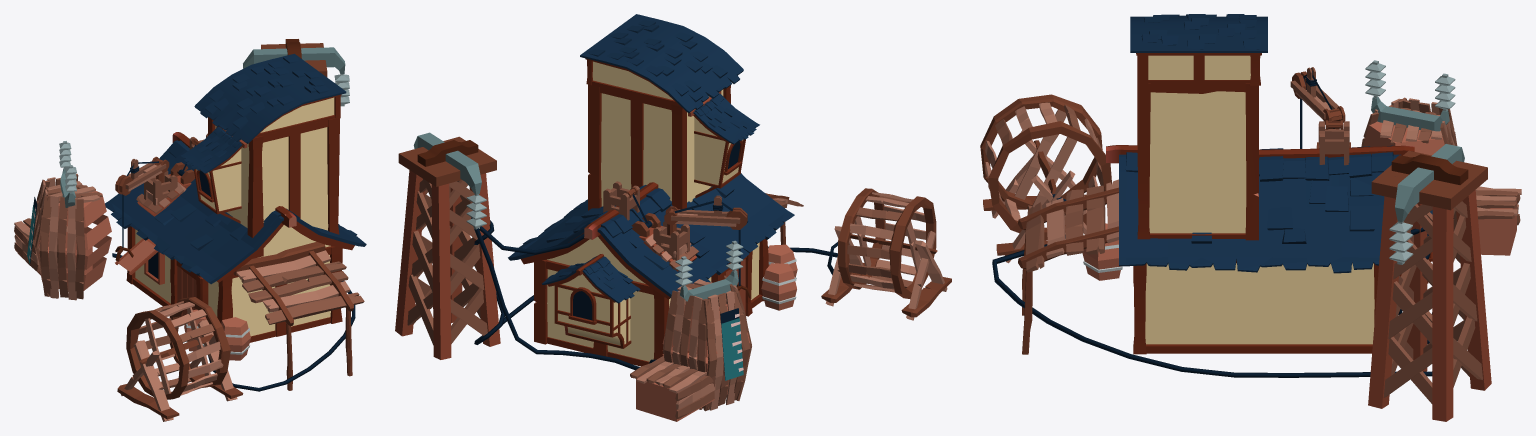
File: SM_Lab_LODS_Group.fbx
The picture shows the model from 3 angles, left to right: view 1: azimuth 30°, elevation 25°; view 2: azimuth 150°, elevation 25°; view 3: azimuth 270°, elevation 25°; orthographic projection. The views are drawn at different scales.
Visible parts, largest first — view 1: SM_Lab_LOD0; view 2: SM_Lab_LOD0; view 3: SM_Lab_LOD0.
Boxes of the visible parts, x1,y1,x2,y2 form: SM_Lab_LOD0: (14,39,366,421); SM_Lab_LOD0: (395,14,951,421); SM_Lab_LOD0: (980,14,1521,421).
Size of the model in its own units: 767 by 776 by 520.
